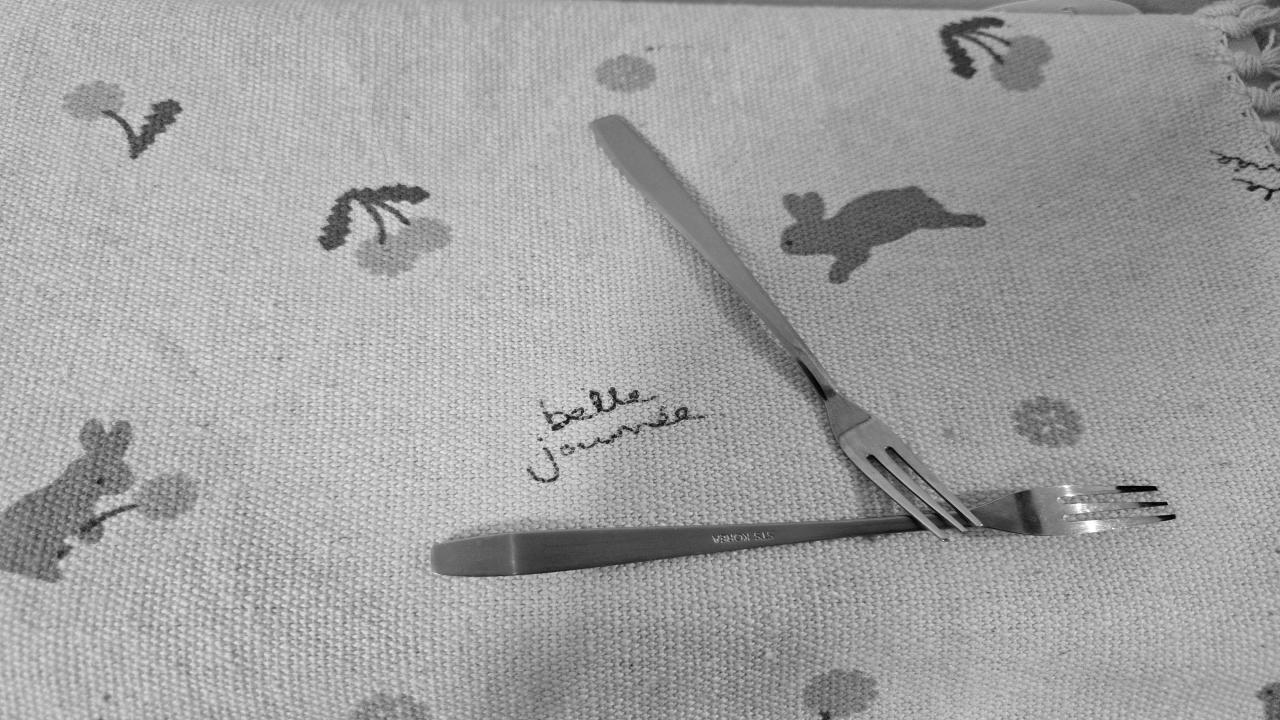fork: (591, 111, 982, 540), (432, 480, 1174, 580)
